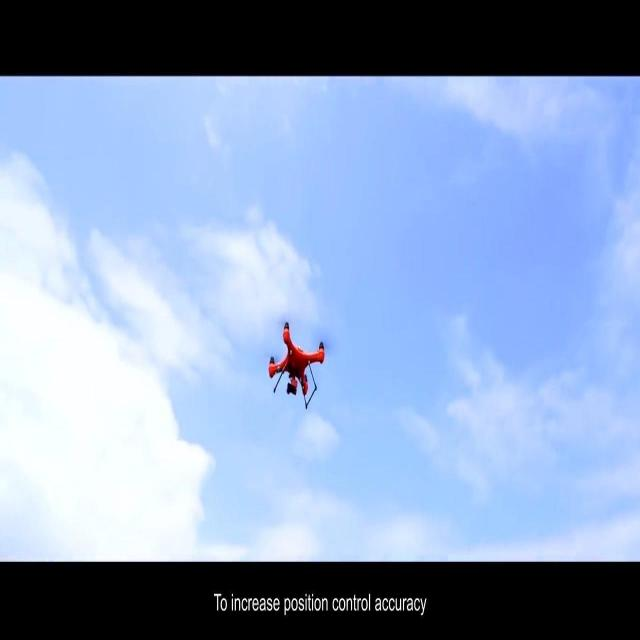UAV: (268, 322, 324, 409)
